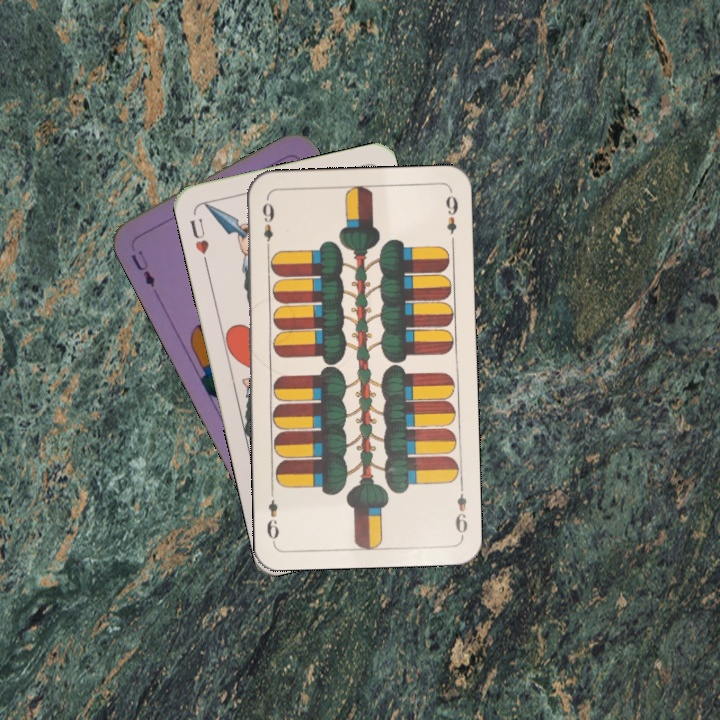E9: (451, 480, 470, 539), (258, 199, 277, 254)
EU: (127, 246, 158, 290)
HU: (185, 214, 212, 268)
